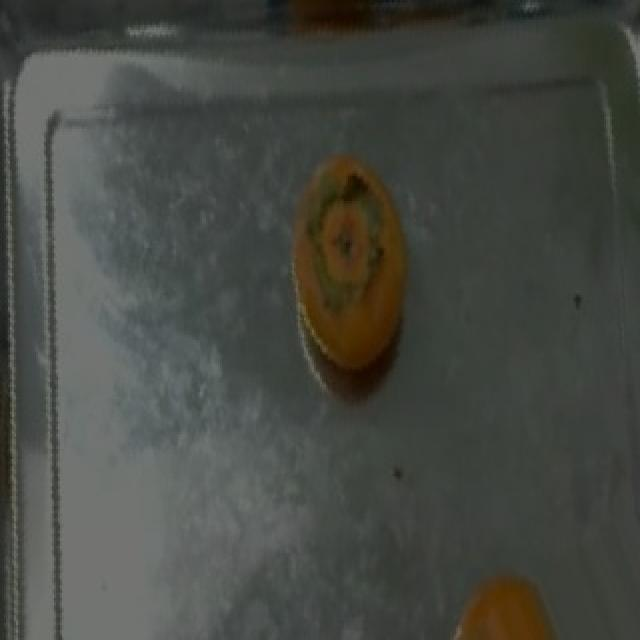Fruit: (280, 141, 428, 387), (432, 563, 574, 640)
